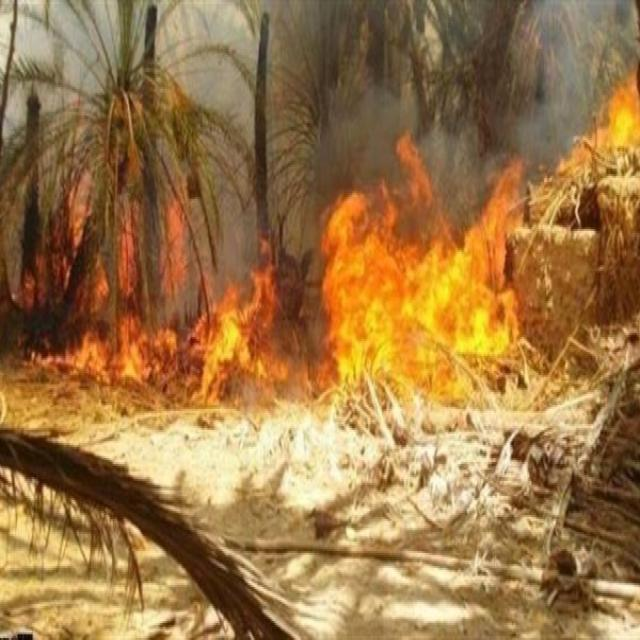Fire: (0, 85, 640, 408)
Smoke: (0, 0, 640, 288)
